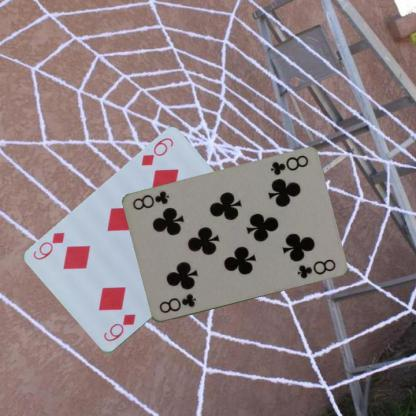6d: (138, 135, 175, 168), (100, 312, 137, 344)
8c: (268, 152, 310, 177), (156, 291, 198, 315)
